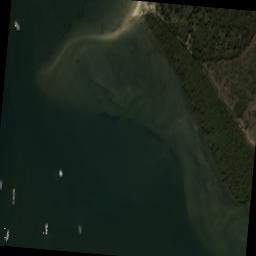boat: (10, 186, 16, 206), (2, 228, 8, 242), (13, 20, 20, 30), (43, 222, 48, 234), (76, 224, 82, 234), (0, 177, 2, 190)
